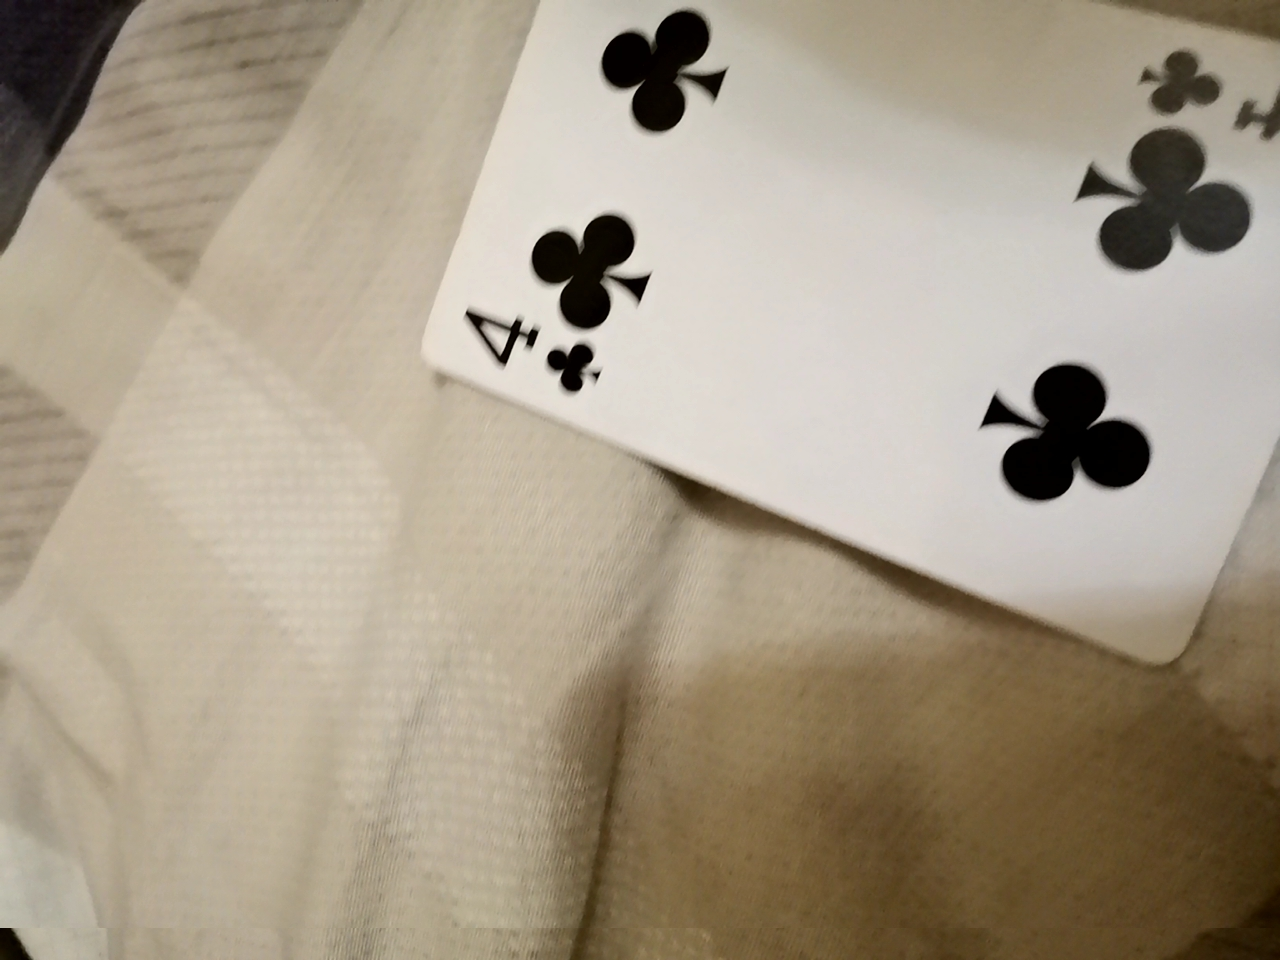mh 4: (419, 0, 1275, 643)
